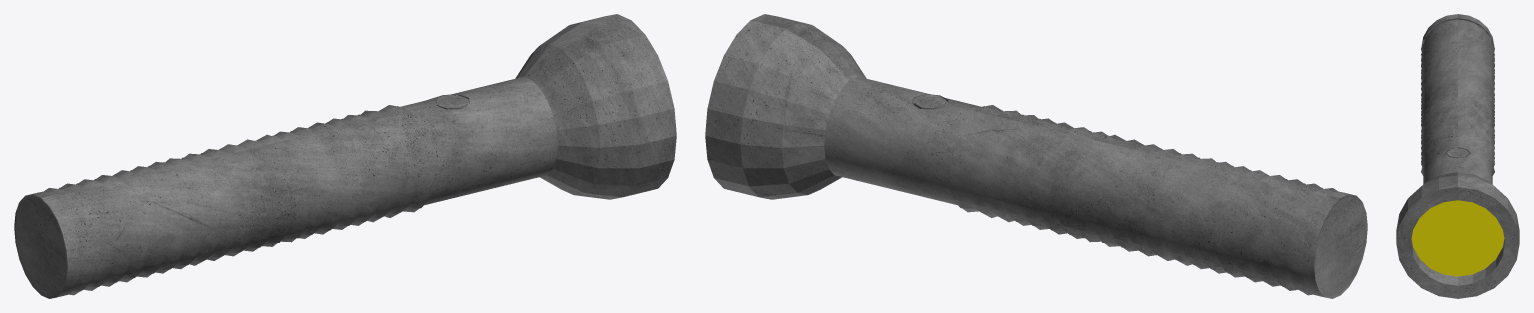
Rendered from LinternaFinal.fbx.
3 views of the same model, side by side, from view 1: azimuth 30°, elevation 25°; view 2: azimuth 150°, elevation 25°; view 3: azimuth 270°, elevation 25° (orthographic). The views are drawn at different scales.
Parts seen in each view (by area): view 1: lp_linterna; view 2: lp_linterna; view 3: lp_linterna, lp_foco.
Part boxes in pixels (left/top/right/bottom): lp_linterna: left=14, top=14, right=676, bottom=298; lp_linterna: left=705, top=14, right=1367, bottom=298; lp_linterna: left=1396, top=14, right=1519, bottom=298; lp_foco: left=1411, top=200, right=1504, bottom=276.
Bounding box in the file's own units: 4.97 × 1.32 × 1.32.
2 materials, 2 textured.
